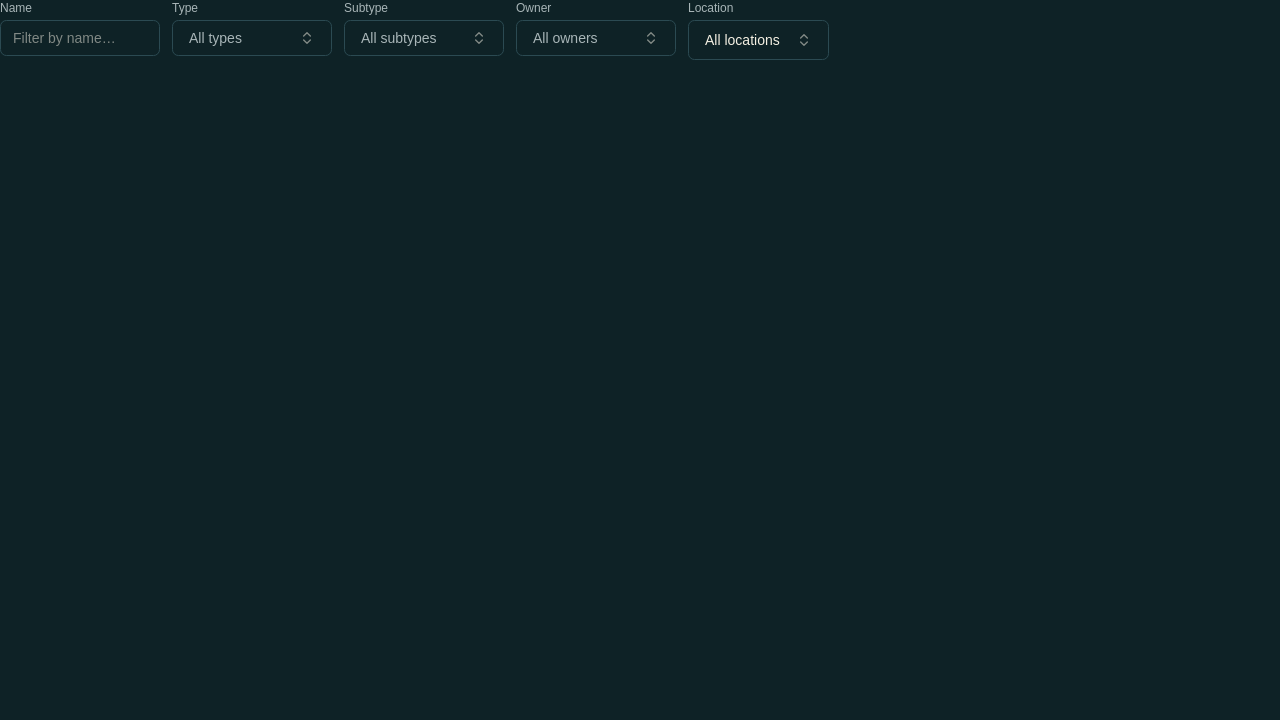
Test: InventoryFilters › renders type dropdown with options
Click the dropdown labelled "All types" at (252, 38), box x1=172 y1=20 x2=332 y2=56
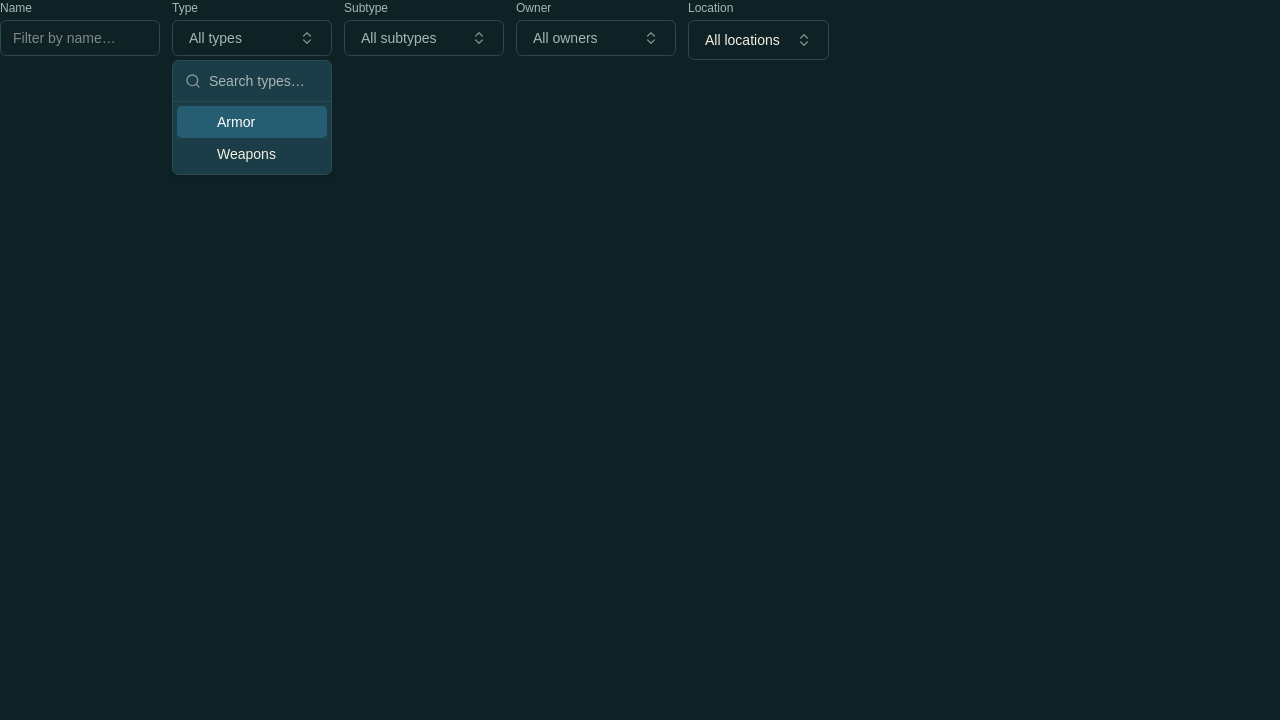
Now the option "Armor" is shown, box x1=177 y1=106 x2=327 y2=138
Now the option "Weapons" is shown, box x1=217 y1=146 x2=276 y2=162
